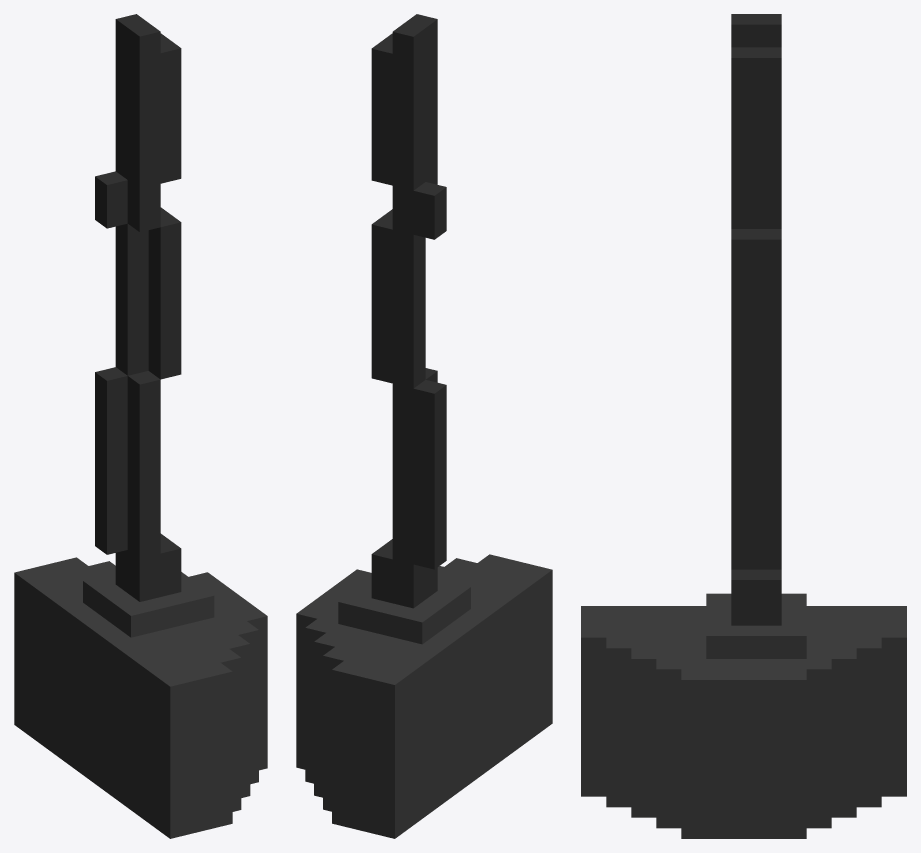
File: Background_A_deco_06.FBX
3 renders of one model, left to right at view 1: azimuth 30°, elevation 25°; view 2: azimuth 150°, elevation 25°; view 3: azimuth 270°, elevation 25°, orthographic. The views are drawn at different scales.
Visible parts, largest first — view 1: Load_A-3; view 2: Load_A-3; view 3: Load_A-3.
Boxes of the visible parts, box(x1,y1,x2,y2) form: Load_A-3: box(14, 14, 267, 838); Load_A-3: box(296, 14, 552, 838); Load_A-3: box(581, 14, 906, 838).
Bounding box in the file's own units: 0.7 × 3.4 × 1.3.
1 material, 1 textured.
